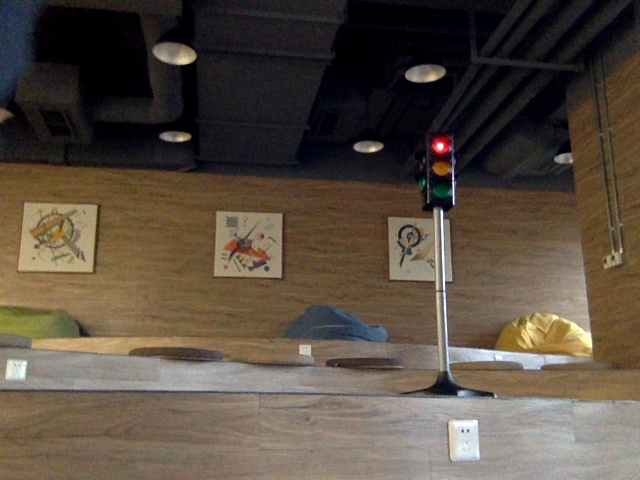red: (425, 140, 453, 198)
